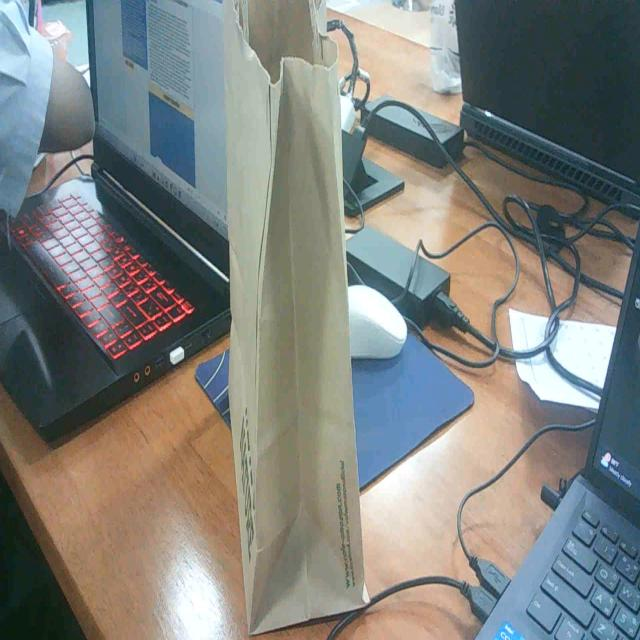bag: (223, 0, 381, 605)
